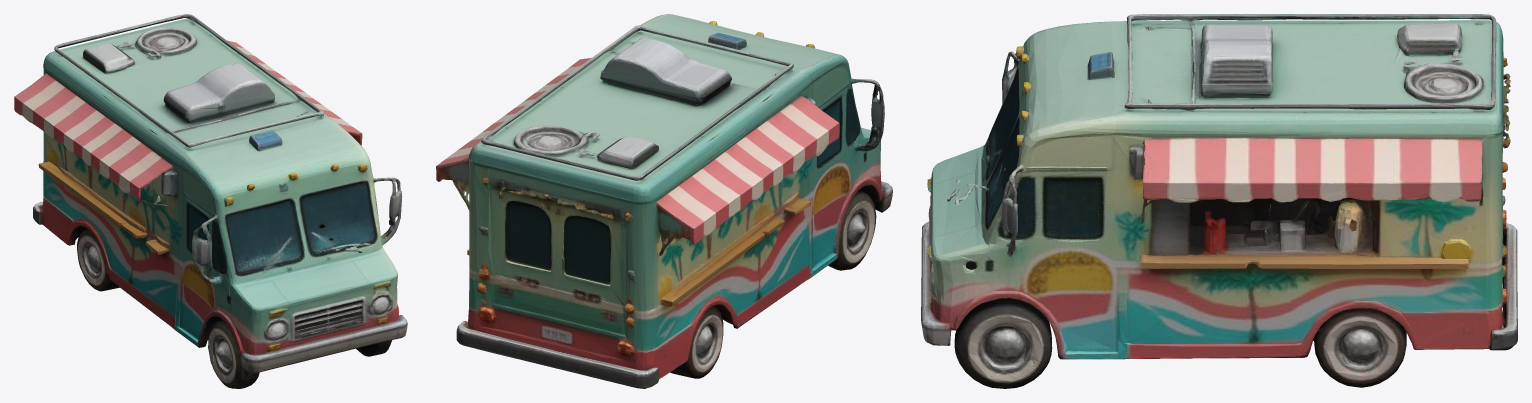
Rendered from prop_foodtruck.glb.
3 views of the same model, side by side, from view 1: azimuth 30°, elevation 25°; view 2: azimuth 150°, elevation 25°; view 3: azimuth 270°, elevation 25° (orthographic). The views are drawn at different scales.
Visible parts, largest first — view 1: world; view 2: world; view 3: world.
Part boxes in pixels (left/top/right/bottom): world: left=14, top=14, right=407, bottom=388; world: left=436, top=14, right=892, bottom=388; world: left=921, top=14, right=1517, bottom=388.
Size of the model in its own units: 0.5852 by 0.5709 by 0.9969.
1 material, 1 textured.
